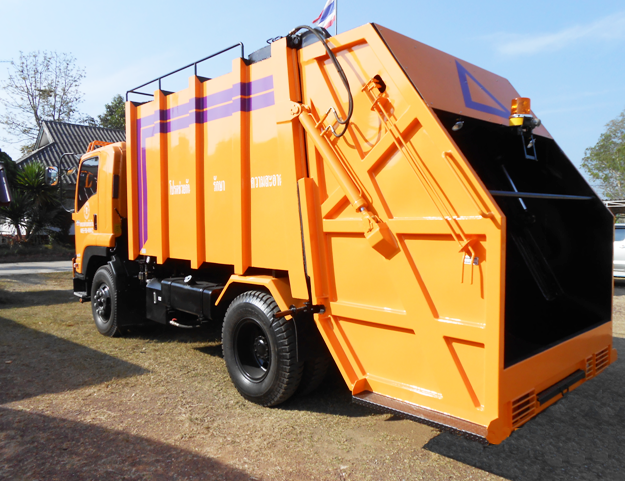truck: (71, 24, 616, 445)
